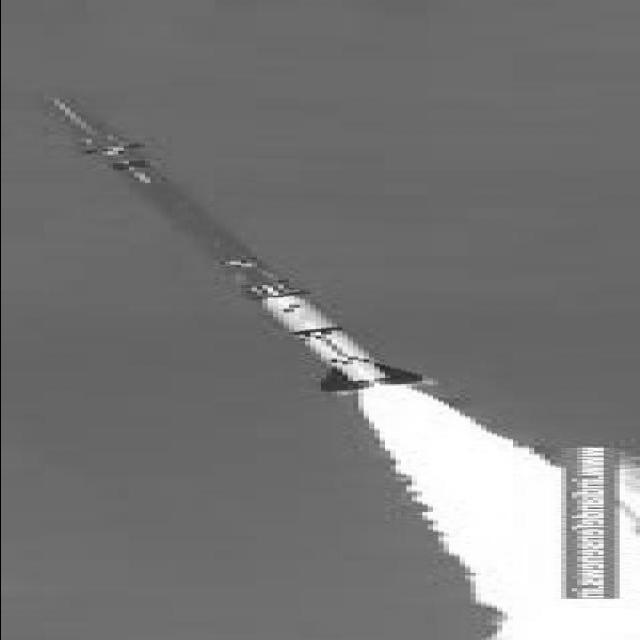Missile: (30, 89, 442, 391)
